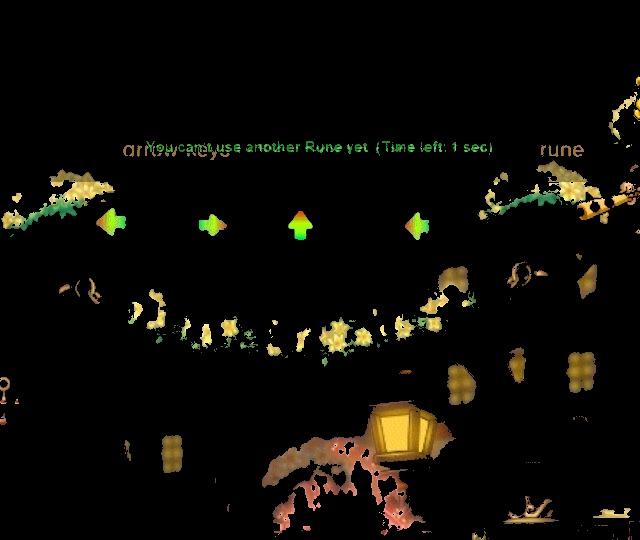rune_box: (68, 180, 480, 279)
